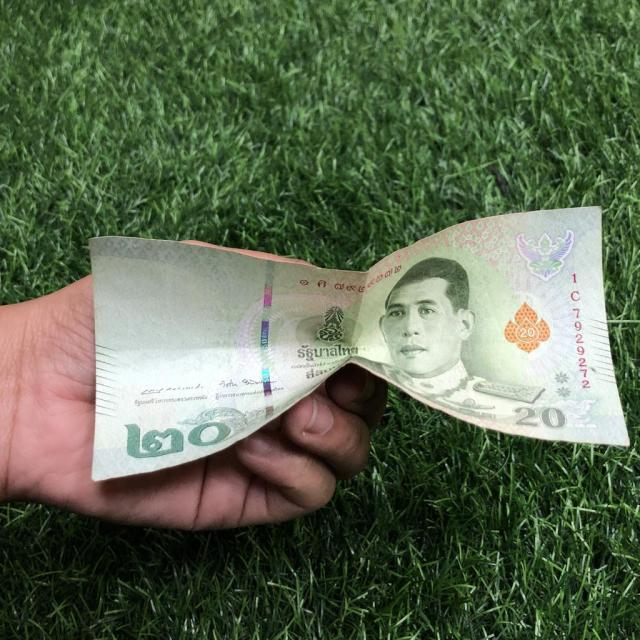THAI20: (89, 207, 631, 486)
